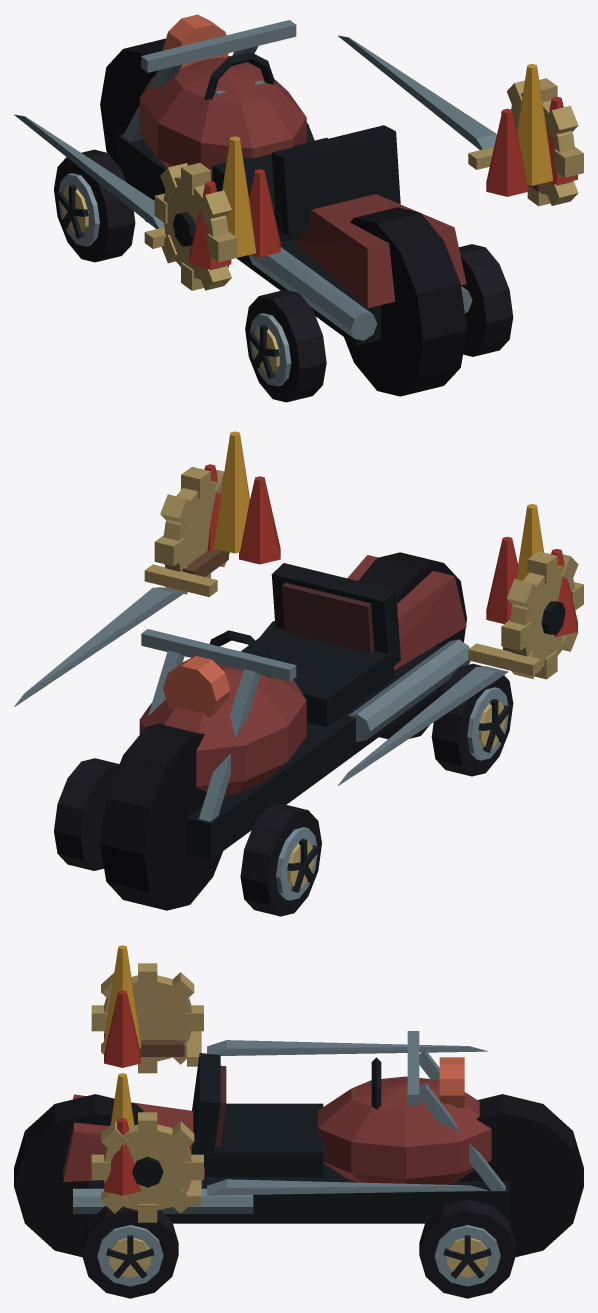
Rendered from kart.glb.
3 renders of one model, top to bottom at view 1: azimuth 30°, elevation 25°; view 2: azimuth 150°, elevation 25°; view 3: azimuth 270°, elevation 25°, orthographic. The views are drawn at different scales.
Parts seen in each view (by area): view 1: identity-motorbike-motorbike-tank-and-fork, identity-motorbike-driver-cockpit, identity-motorbike-motif-fire, identity-motorbike-motif-gears, wheel-rear-left, identity-motorbike-motif-swords, wheel-front-left, wheel-rear-right; view 2: identity-motorbike-motorbike-tank-and-fork, identity-motorbike-driver-cockpit, identity-motorbike-motif-gears, identity-motorbike-motif-fire, identity-motorbike-motif-swords, wheel-front-left, wheel-rear-left, wheel-front-right; view 3: identity-motorbike-motorbike-tank-and-fork, identity-motorbike-motif-gears, identity-motorbike-driver-cockpit, identity-motorbike-motif-swords, wheel-front-right, wheel-rear-right, identity-motorbike-motif-fire.
Boxes of the visible parts, x1=… form: identity-motorbike-motorbike-tank-and-fork: x1=100, y1=14, x2=472, y2=396; identity-motorbike-driver-cockpit: x1=204, y1=52, x2=400, y2=241; identity-motorbike-motif-fire: x1=189, y1=64, x2=577, y2=269; identity-motorbike-motif-gears: x1=154, y1=78, x2=583, y2=290; wheel-rear-left: x1=245, y1=289, x2=326, y2=402; identity-motorbike-motif-swords: x1=14, y1=35, x2=547, y2=267; wheel-front-left: x1=54, y1=149, x2=135, y2=262; wheel-rear-right: x1=459, y1=244, x2=513, y2=356; identity-motorbike-motorbike-tank-and-fork: x1=100, y1=552, x2=470, y2=910; identity-motorbike-driver-cockpit: x1=209, y1=563, x2=400, y2=727; identity-motorbike-motif-gears: x1=154, y1=466, x2=583, y2=679; identity-motorbike-motif-fire: x1=204, y1=431, x2=577, y2=636; identity-motorbike-motif-swords: x1=14, y1=549, x2=541, y2=785; wheel-front-left: x1=240, y1=803, x2=321, y2=916; wheel-rear-left: x1=431, y1=663, x2=513, y2=776; wheel-front-right: x1=54, y1=758, x2=119, y2=870; identity-motorbike-motorbike-tank-and-fork: x1=14, y1=1031, x2=583, y2=1257; identity-motorbike-motif-gears: x1=91, y1=963, x2=203, y2=1222; identity-motorbike-driver-cockpit: x1=191, y1=1053, x2=381, y2=1177; identity-motorbike-motif-swords: x1=140, y1=1031, x2=487, y2=1205; wheel-front-right: x1=419, y1=1199, x2=515, y2=1298; wheel-rear-right: x1=82, y1=1205, x2=178, y2=1298; identity-motorbike-motif-fire: x1=104, y1=945, x2=140, y2=1195.
Bounding box in the file's own units: 2.04 × 1.38 × 2.94.
